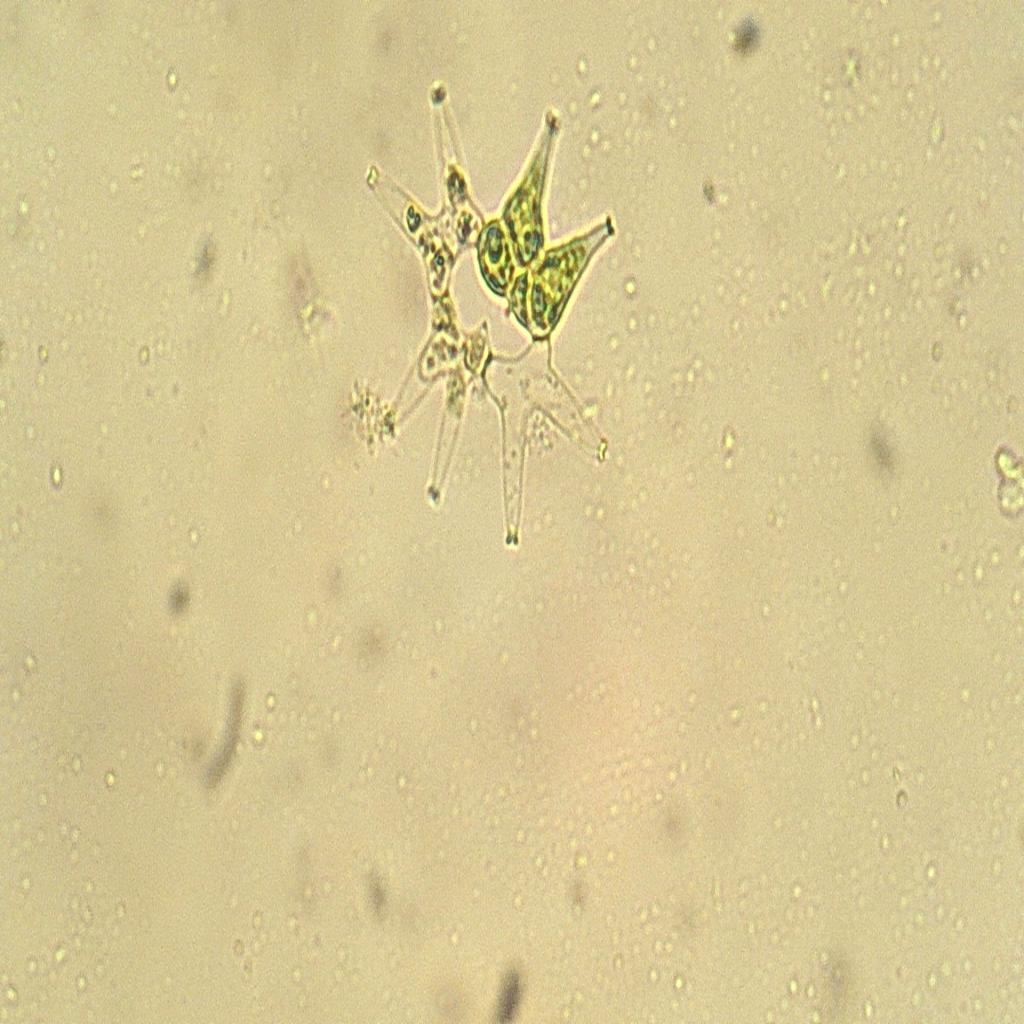Pediastrum_75TH: (352, 48, 630, 570)
